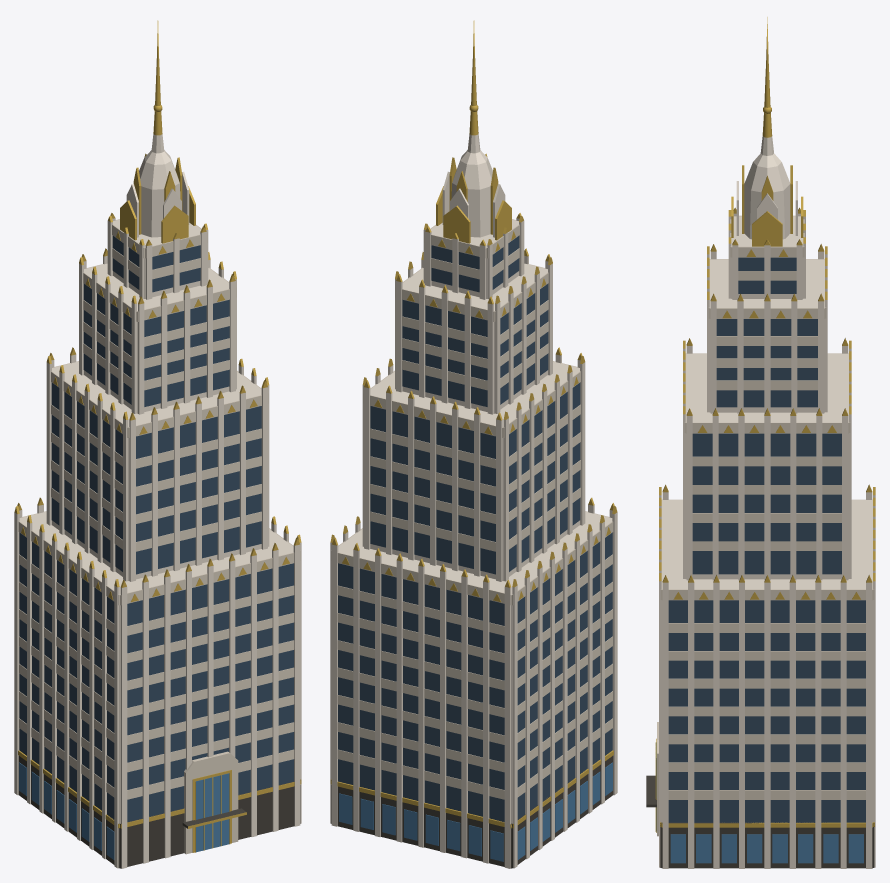
File: deco.glb
3 renders of one model, left to right at view 1: azimuth 30°, elevation 25°; view 2: azimuth 150°, elevation 25°; view 3: azimuth 270°, elevation 25°, orthographic.
Visible parts, largest first — view 1: deco; view 2: deco; view 3: deco.
Part boxes in pixels (<box>): deco: <box>14,20,301,868</box>; deco: <box>330,20,617,868</box>; deco: <box>646,17,875,868</box>.
Size of the model in its own units: 22.56 by 93 by 23.9.
